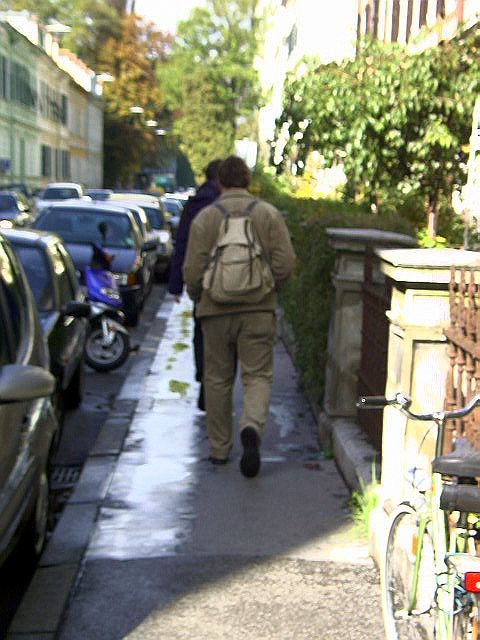person: (184, 159, 301, 474)
